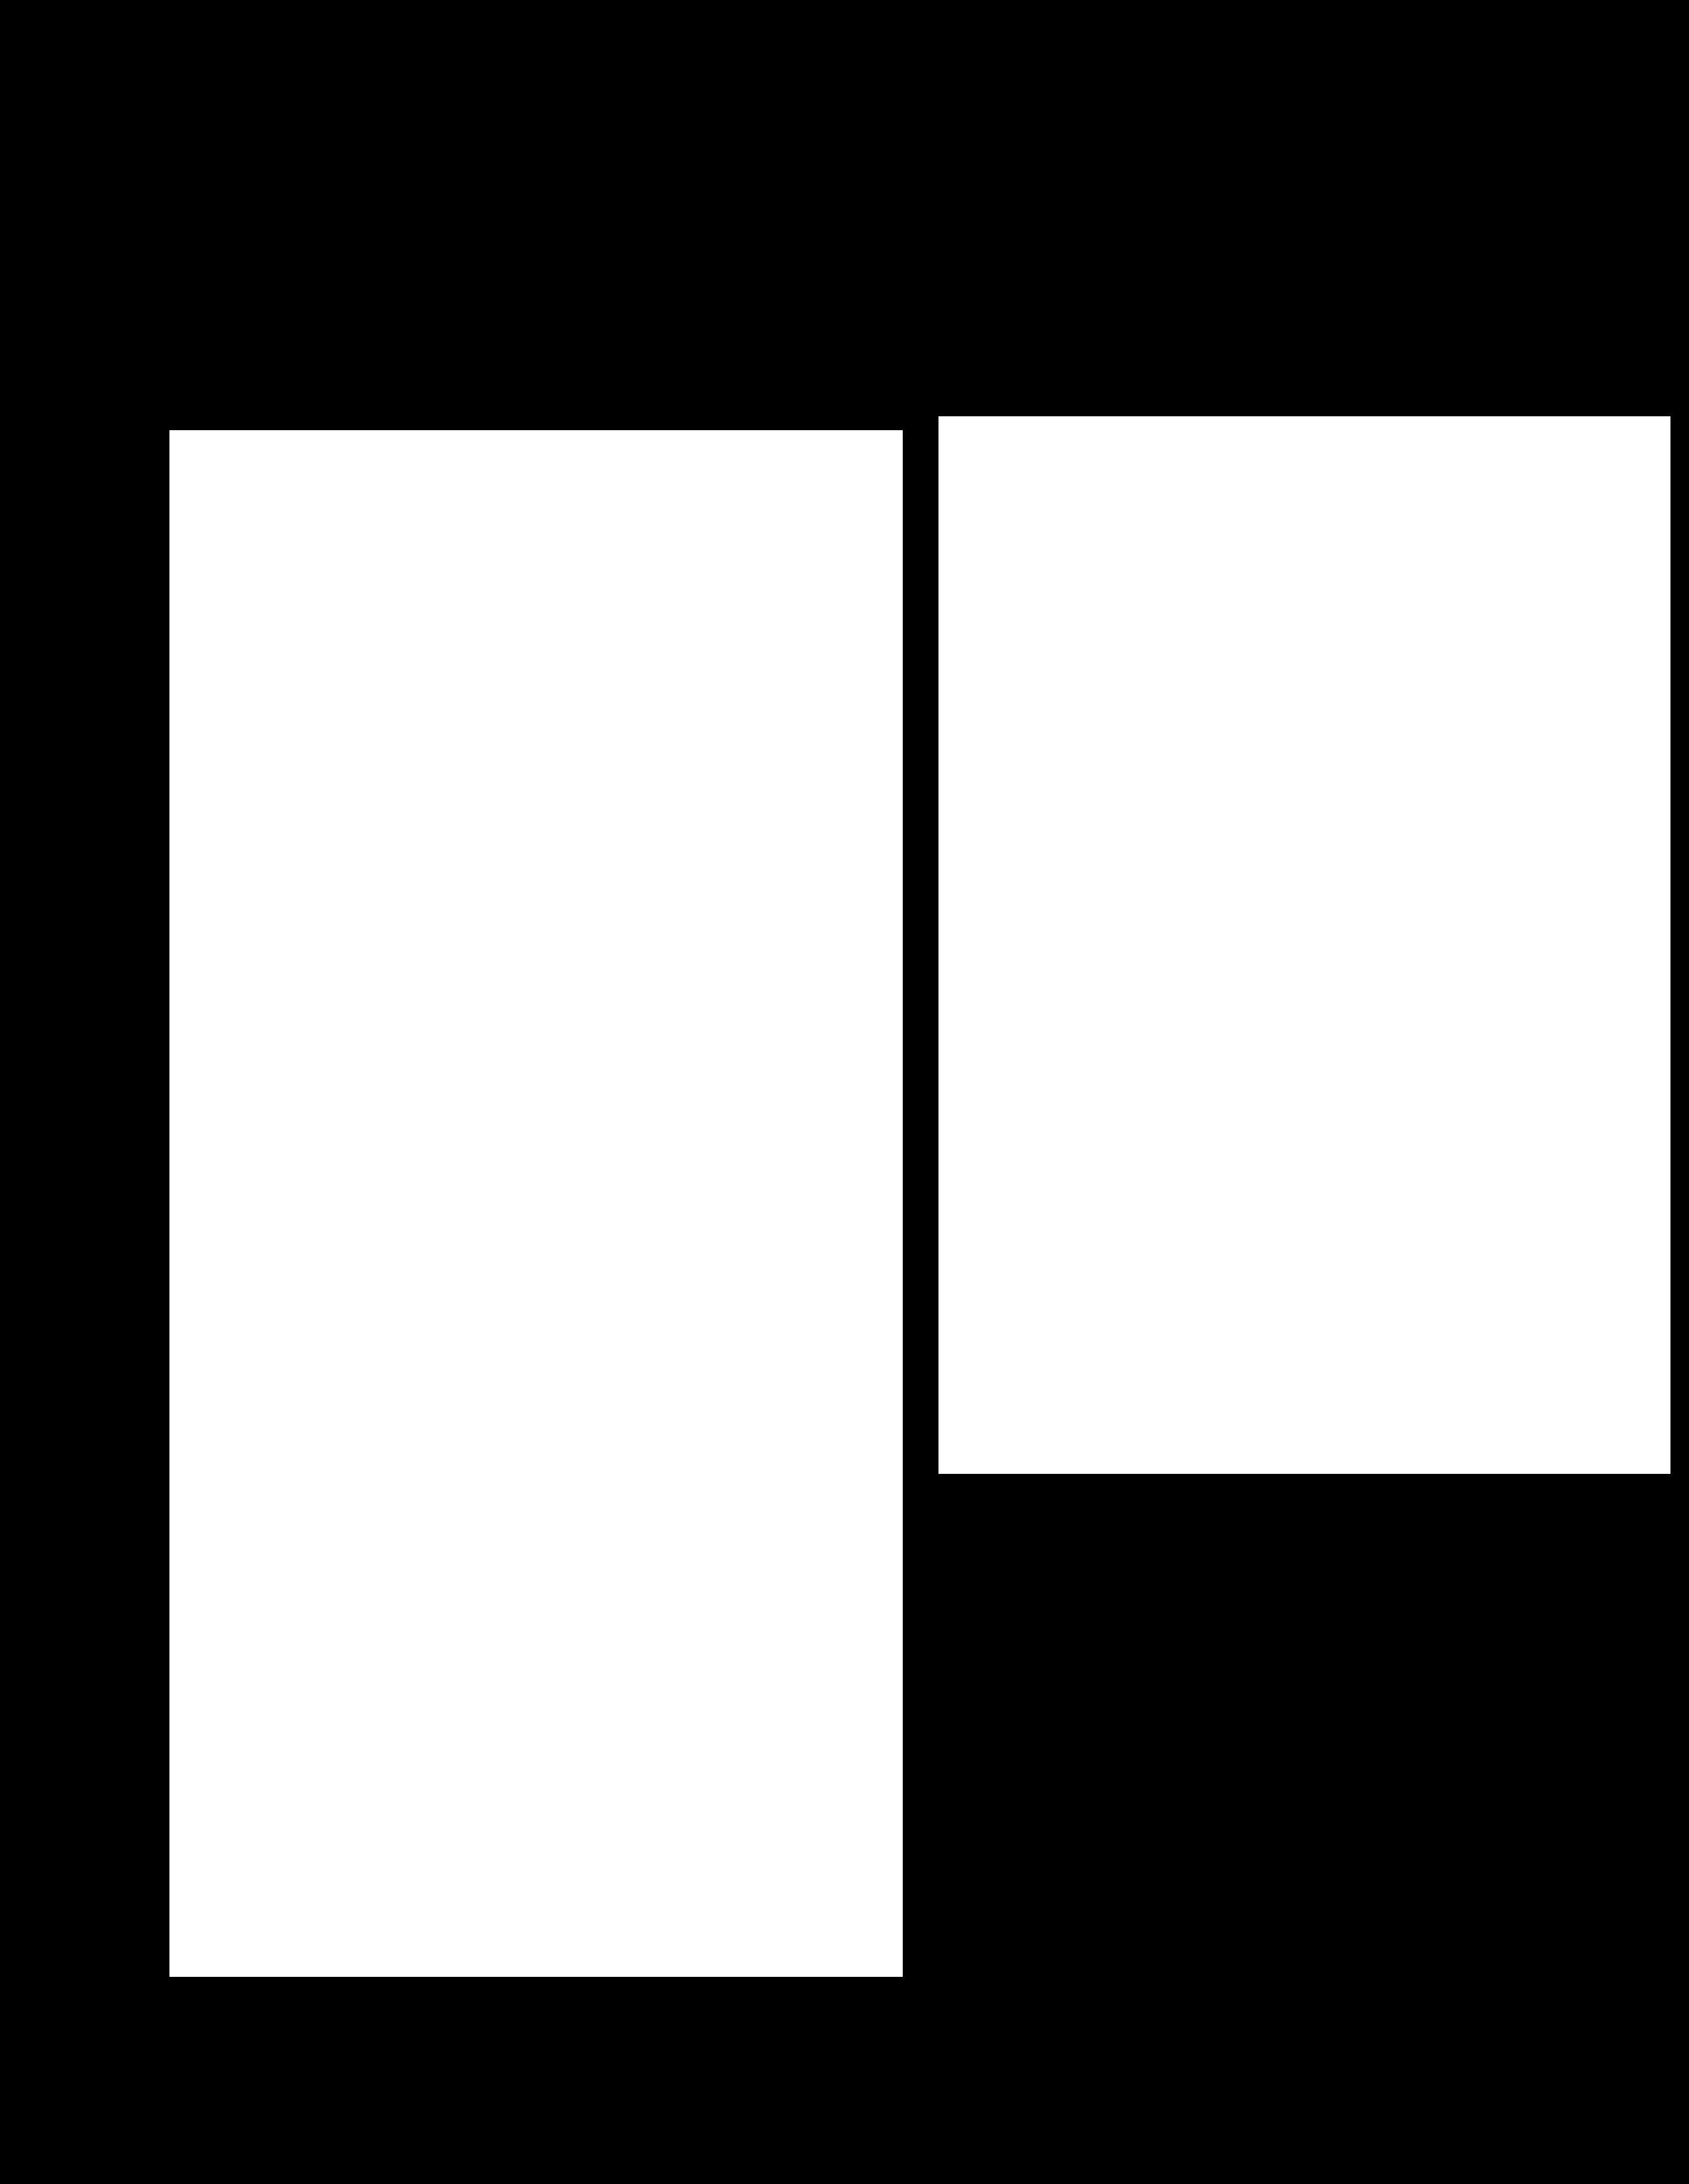table: (170, 431, 902, 1977), (939, 417, 1670, 1473)
